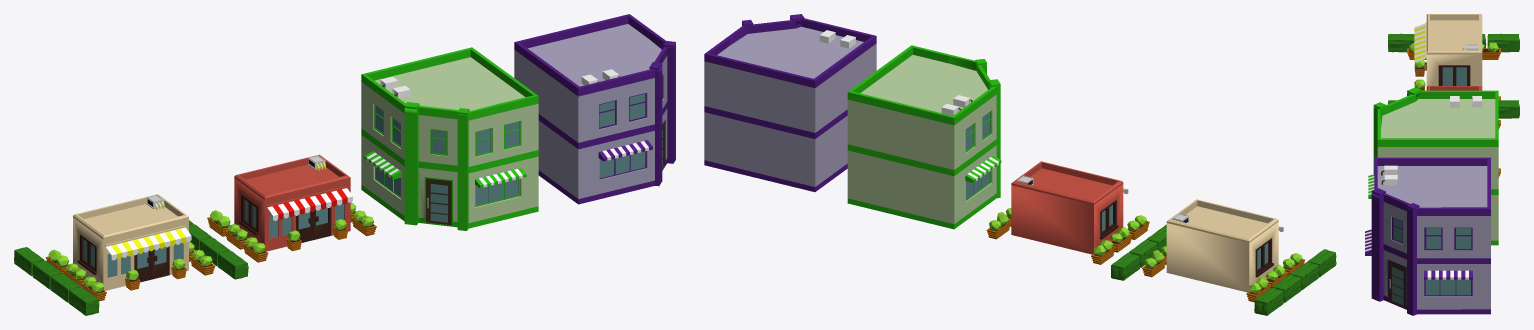
Rendered from citta02.fbx.
The picture shows the model from 3 angles, left to right: view 1: azimuth 30°, elevation 25°; view 2: azimuth 150°, elevation 25°; view 3: azimuth 270°, elevation 25°; orthographic projection. The views are drawn at different scales.
Visible parts, largest first — view 1: tenda_005, tenda_006, vetro_017, Icosphere_008, cespuglio_001, vetro_019; view 2: tenda_006, tenda_005, vetro_017, Icosphere_008, cespuglio_001, vetro_019; view 3: tenda_006, tenda_005, Icosphere_008, cespuglio_001, vetro_017.
Part boxes in pixels (<box>): tenda_005: <box>361,47,538,230</box>; tenda_006: <box>514,14,675,204</box>; vetro_017: <box>207,154,376,262</box>; Icosphere_008: <box>45,194,215,301</box>; cespuglio_001: <box>14,220,248,315</box>; vetro_019: <box>375,105,518,222</box>; tenda_006: <box>704,14,876,191</box>; tenda_005: <box>847,45,1001,229</box>; vetro_017: <box>986,161,1149,264</box>; Icosphere_008: <box>1142,199,1304,302</box>; cespuglio_001: <box>1111,224,1336,315</box>; vetro_019: <box>965,112,990,199</box>; tenda_006: <box>1365,157,1490,315</box>; tenda_005: <box>1368,87,1498,245</box>; Icosphere_008: <box>1407,14,1500,100</box>; cespuglio_001: <box>1388,33,1519,118</box>; vetro_017: <box>1426,86,1500,177</box>.
Size of the model in its own units: 8193 by 1528 by 1977.
Materials: 6 (6 with a texture image).
